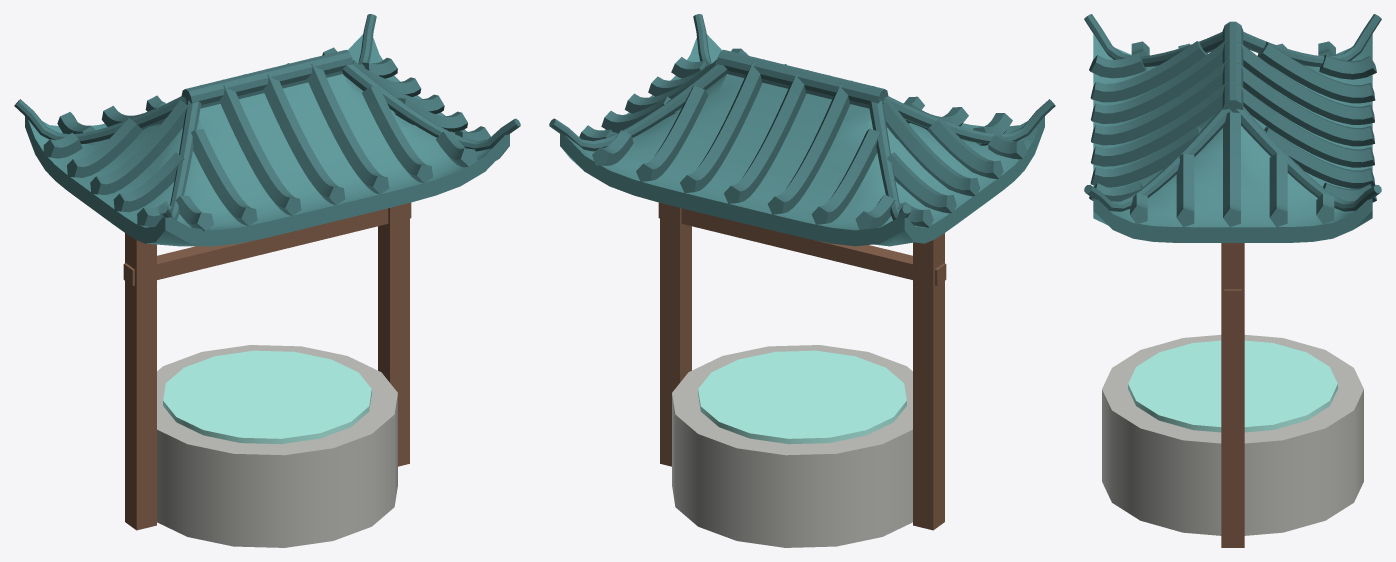
File: SonMon_well.fbx
3 renders of one model, left to right at view 1: azimuth 30°, elevation 25°; view 2: azimuth 150°, elevation 25°; view 3: azimuth 270°, elevation 25°, orthographic.
Visible parts, largest first — view 1: well; view 2: well; view 3: well.
Part boxes in pixels (x1,y1,x2,y2): well: [14, 14, 520, 547]; well: [549, 14, 1055, 547]; well: [1084, 14, 1381, 547].
Size of the model in its own units: 1.43 by 1.59 by 1.02.
